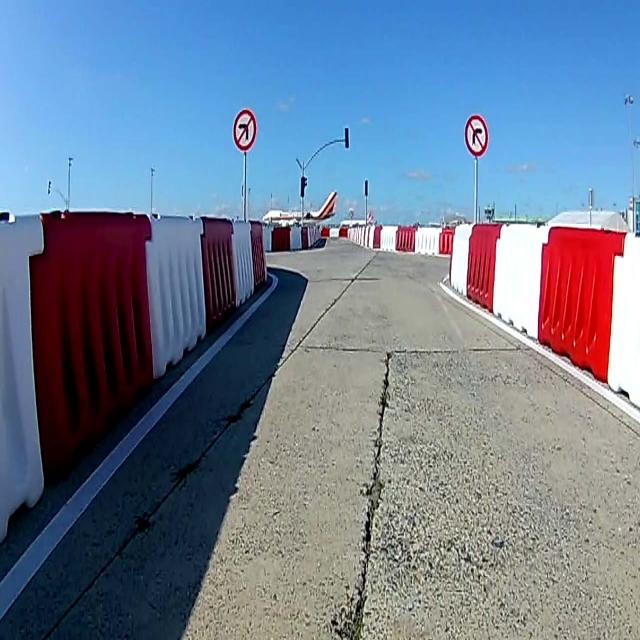sagadonulmez: (465, 114, 489, 156)
soladonulmez: (234, 108, 258, 150)
